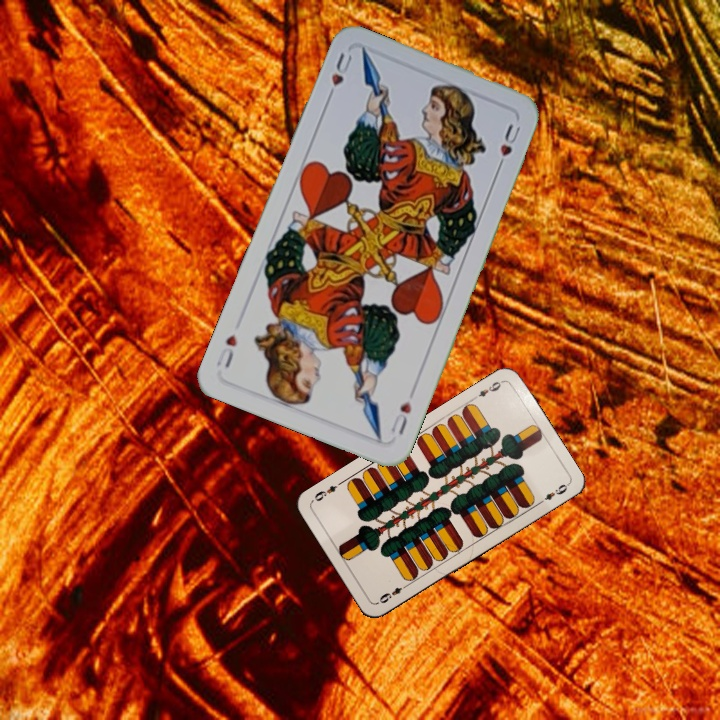E9: (374, 580, 411, 606), (468, 377, 505, 403)
HU: (322, 48, 355, 104), (386, 397, 414, 438)
